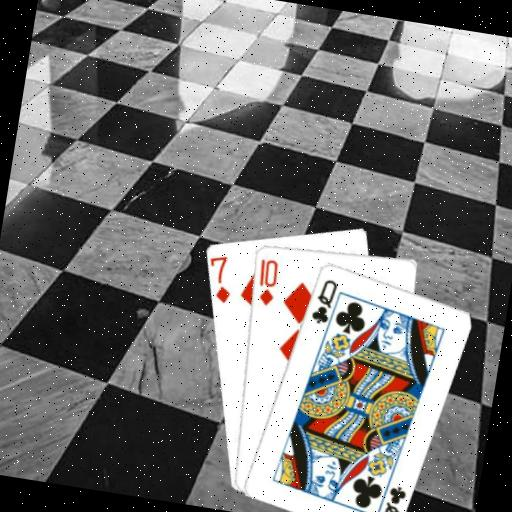10D: (250, 254, 281, 307)
7D: (202, 250, 237, 305)
QC: (306, 273, 339, 327), (374, 480, 408, 512)
